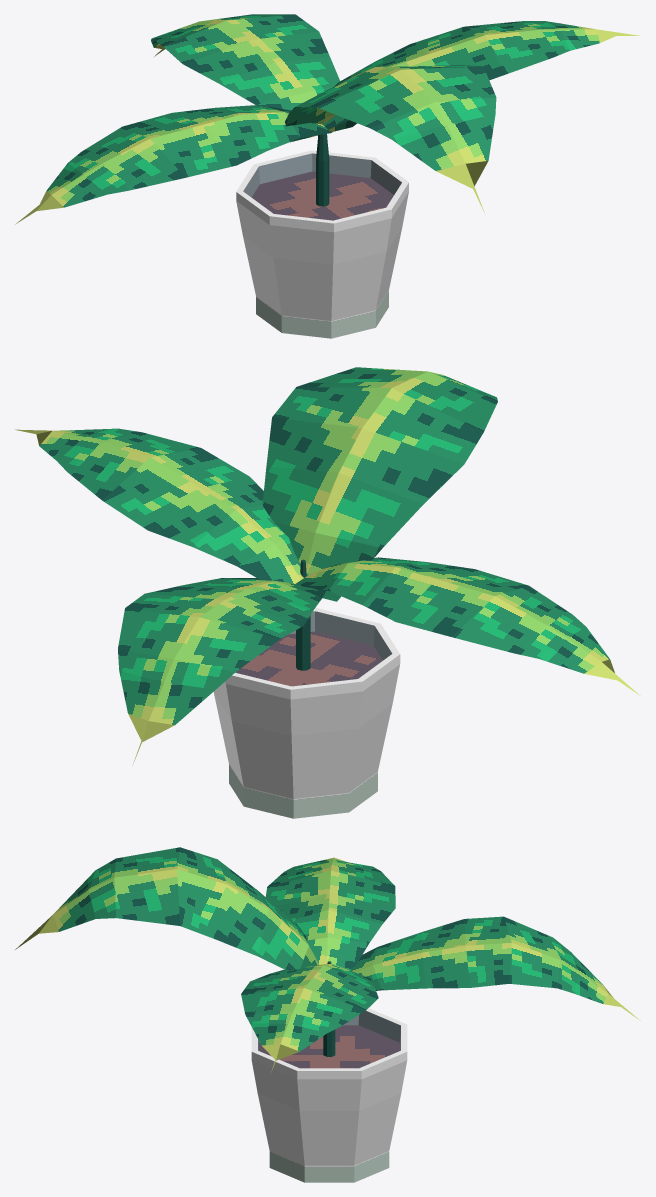
Rendered from Planta.gltf.
3 renders of one model, top to bottom at view 1: azimuth 30°, elevation 25°; view 2: azimuth 150°, elevation 25°; view 3: azimuth 270°, elevation 25°, orthographic. The views are drawn at different scales.
Parts seen in each view (by area): view 1: plane (×4), cylinder (×2); view 2: plane (×4), cylinder (×2); view 3: plane (×4), cylinder.
Boxes of the visible parts, x1,y1,x2,y2 form: plane (×4): (15,14,639,224); cylinder (×2): (236,134,408,338); plane (×4): (15,367,640,765); cylinder (×2): (213,559,400,818); plane (×4): (15,847,640,1071); cylinder: (251,1008,407,1182).
Bounding box in the file's own units: 0.6919 × 0.3322 × 0.6556.
2 materials, 2 textured.
